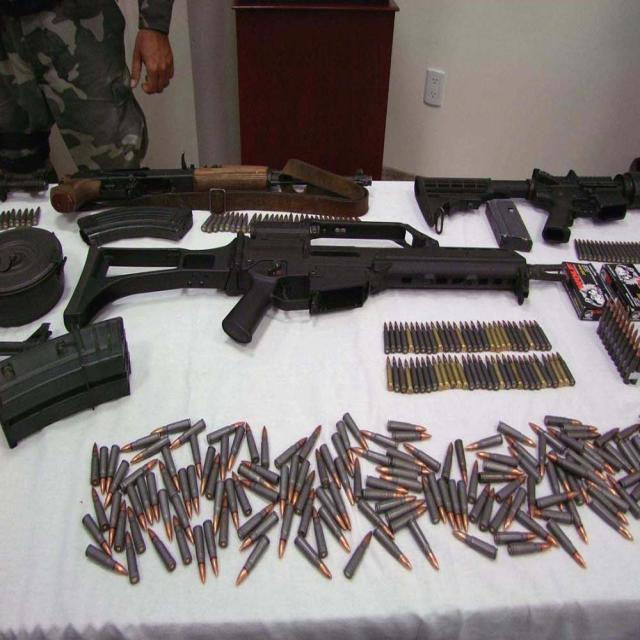firearm: (63, 217, 563, 348), (47, 156, 374, 212), (414, 167, 640, 239)
